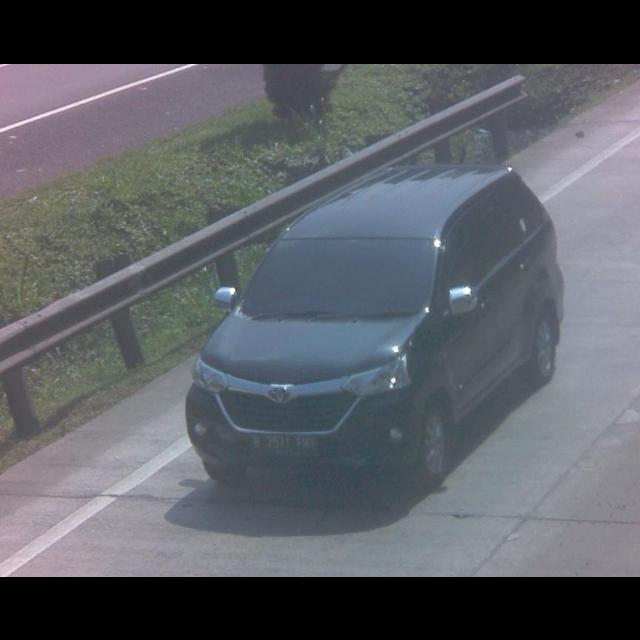plate: (247, 429, 326, 461)
